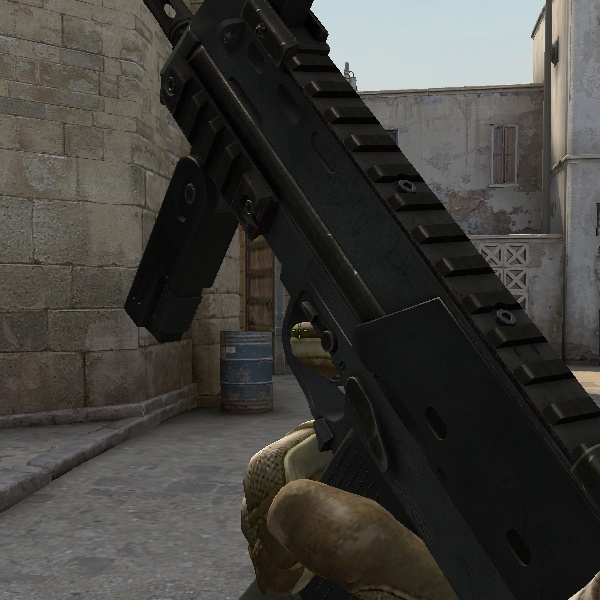ct_body: (47, 7, 516, 571)
